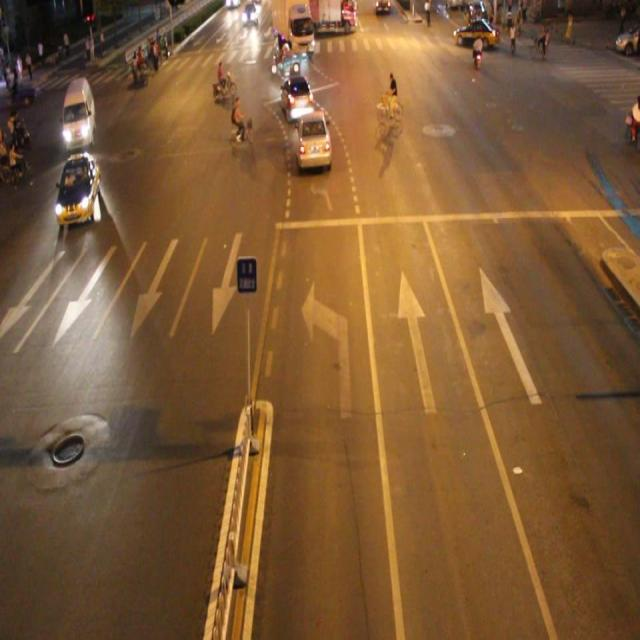car: (54, 152, 101, 227), (293, 108, 332, 171), (279, 72, 314, 122)
truck: (61, 77, 98, 148)
